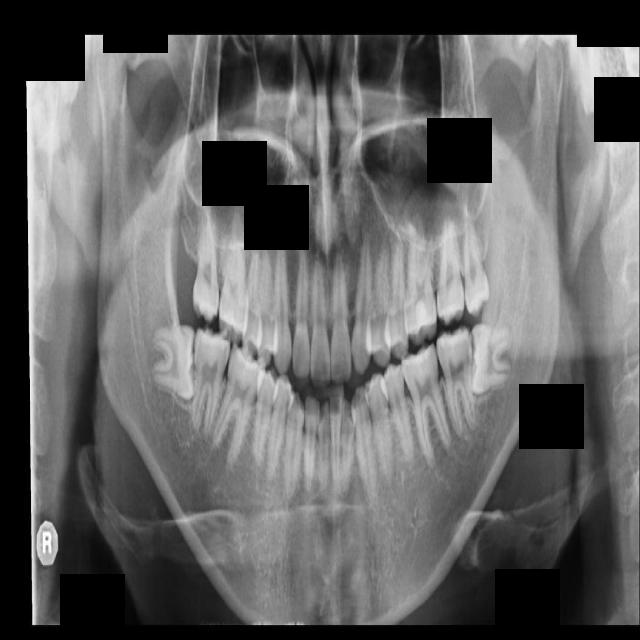52: (400, 289, 442, 349)
73: (598, 562, 620, 590)
BioHorizons Implant: (436, 218, 469, 326)
BioLife Implant: (462, 212, 491, 318)
Biomet 3i Implant: (466, 322, 514, 397)
Blue Sky Bio Implant: (435, 323, 478, 436)
Caries: (191, 190, 220, 323)
Implant: (185, 323, 233, 441)
Keystone Dental Implant: (150, 324, 200, 401)
